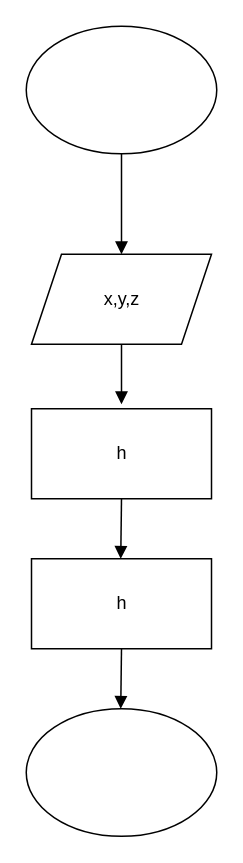
Some shapes in this 243 by 863 pixel diagram are drawn without their labels. The centre of each missing label's shape, as x and y in pixels:
Конец: the point at 121,771
Начало: the point at 121,89
